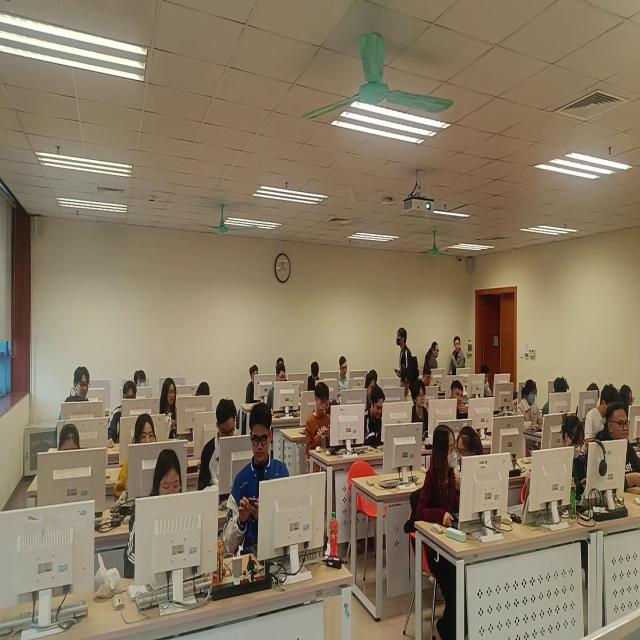raise_head: (596, 404, 640, 494), (277, 359, 285, 369)
stand: (396, 328, 420, 389), (451, 337, 467, 377), (425, 342, 440, 373)
using_computer: (125, 449, 183, 579), (198, 400, 239, 493), (585, 384, 621, 448), (108, 381, 138, 448), (518, 380, 545, 431), (365, 387, 387, 447), (160, 378, 180, 440), (543, 378, 570, 419), (412, 380, 430, 441), (267, 364, 287, 417), (65, 367, 93, 403), (577, 383, 601, 417), (450, 381, 469, 421), (134, 414, 157, 445), (59, 424, 81, 451), (247, 365, 261, 404), (481, 365, 496, 398), (308, 362, 322, 392), (339, 356, 351, 391), (401, 370, 412, 403), (620, 384, 636, 406), (366, 374, 377, 405), (196, 382, 211, 397), (424, 368, 433, 387)
using_phone: (223, 403, 290, 559), (561, 415, 589, 495), (306, 382, 331, 459)
